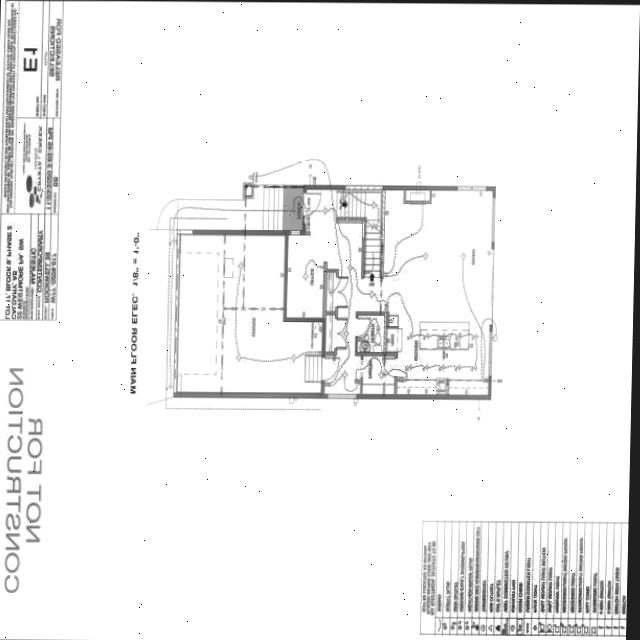room: (176, 234, 322, 394), (361, 355, 394, 395), (356, 315, 384, 353), (325, 272, 335, 312), (324, 315, 334, 352)
